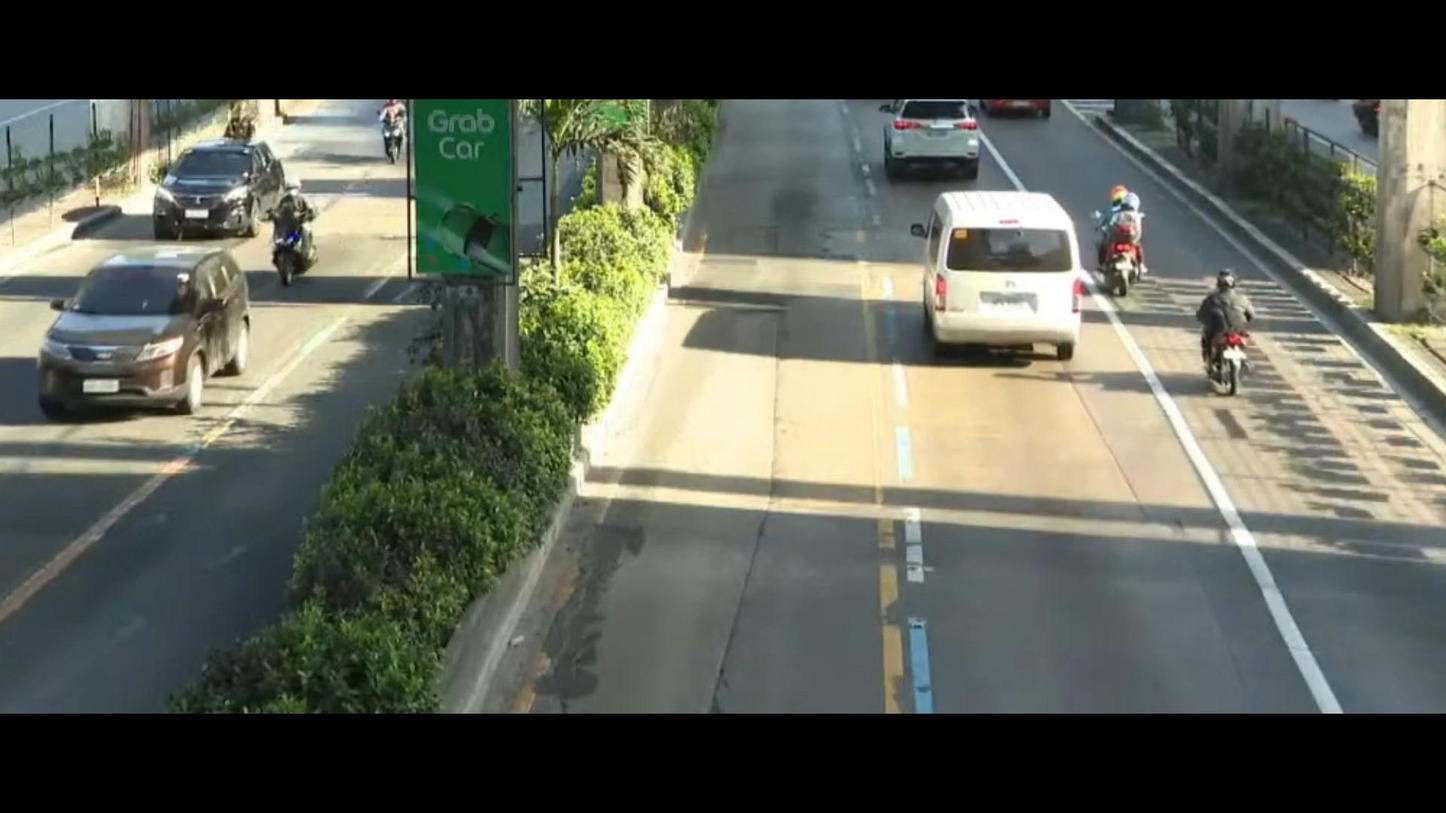Motorcycle: (1187, 260, 1254, 408), (1089, 175, 1151, 313), (266, 179, 341, 286), (368, 96, 410, 170)
SUV: (10, 239, 270, 420), (151, 132, 300, 232), (879, 96, 1004, 178)
Van: (910, 178, 1092, 375)
